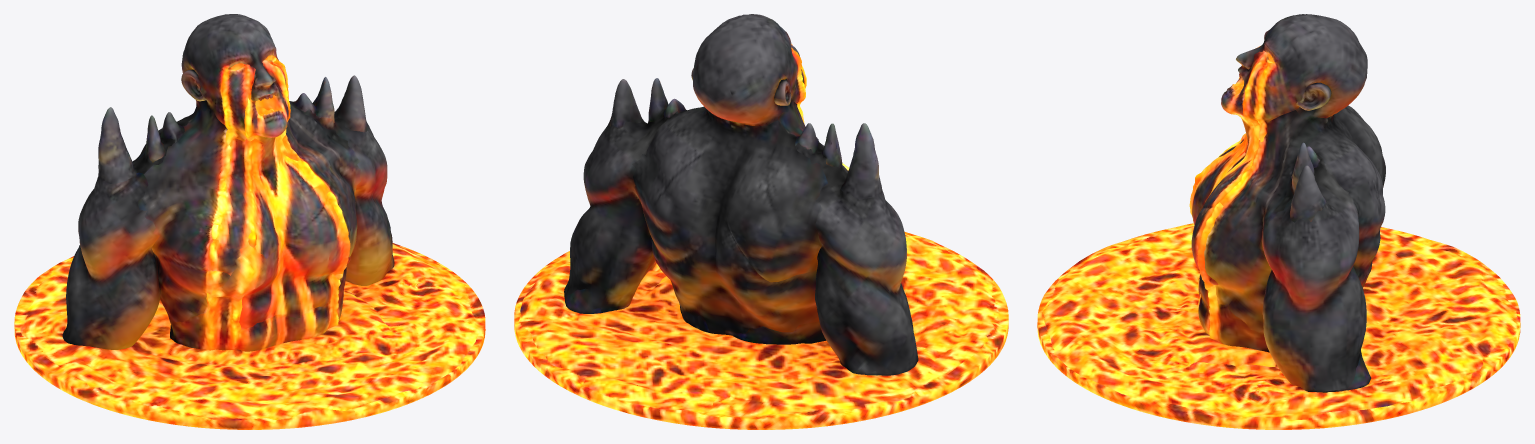
The model's file is MZ4250 - Weeping Colossus_2025.glb.
3 views of the same model, side by side, from view 1: azimuth 30°, elevation 25°; view 2: azimuth 150°, elevation 25°; view 3: azimuth 270°, elevation 25° (orthographic). The views are drawn at different scales.
Parts seen in each view (by area): view 1: Gargantuan Creature Size Marker.001; view 2: Gargantuan Creature Size Marker.001; view 3: Gargantuan Creature Size Marker.001.
Boxes of the visible parts, x1,y1,x2,y2 form: Gargantuan Creature Size Marker.001: (14, 14, 485, 429); Gargantuan Creature Size Marker.001: (514, 14, 1008, 429); Gargantuan Creature Size Marker.001: (1037, 14, 1520, 429).
Size of the model in its own units: 321 by 226 by 321.
Materials: 1 (1 with a texture image).
